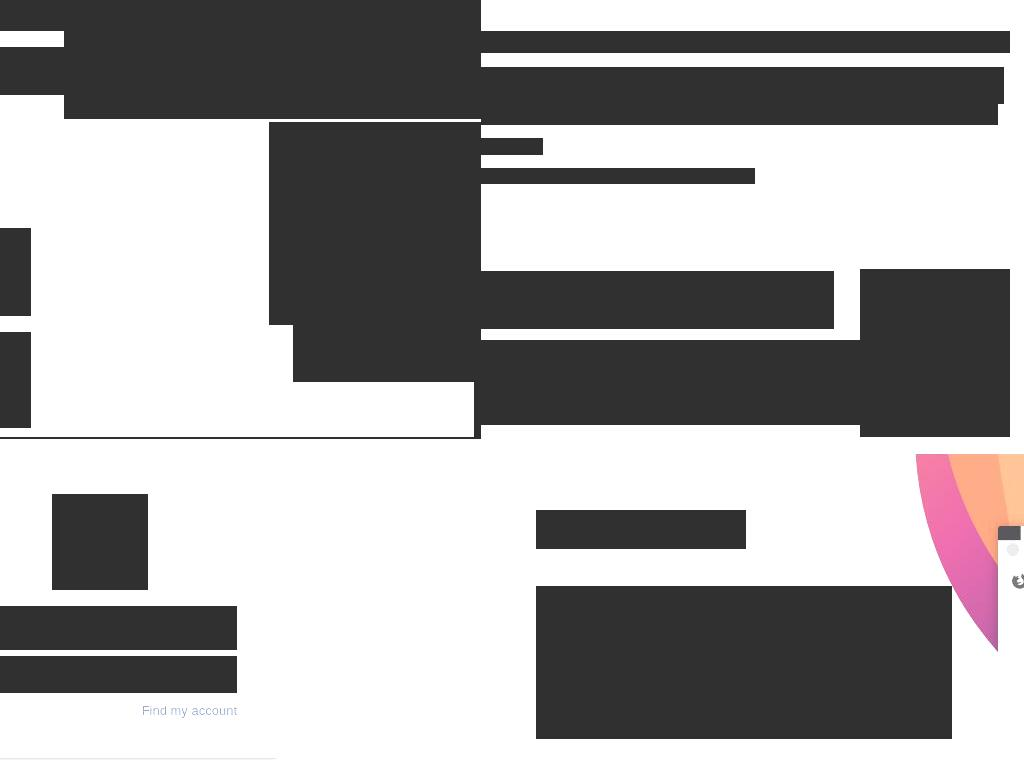button: (293, 228, 481, 382), (398, 286, 481, 322), (141, 702, 237, 718)
field: (0, 606, 237, 650), (0, 656, 237, 693)
heading: (536, 586, 952, 691), (0, 0, 481, 31), (481, 31, 1010, 53)
image: (269, 122, 475, 325), (293, 228, 481, 378), (860, 269, 1010, 437), (64, 0, 270, 119), (269, 0, 475, 119), (52, 494, 148, 590), (536, 510, 746, 549)
link: (560, 168, 670, 184), (525, 271, 622, 287), (481, 168, 541, 184), (501, 67, 552, 83)
text: (481, 340, 1010, 425), (0, 47, 481, 95), (481, 271, 834, 329), (536, 690, 952, 739), (481, 67, 1004, 104), (481, 88, 998, 125), (669, 168, 755, 184), (481, 138, 543, 155), (414, 295, 472, 313), (540, 168, 561, 184)
